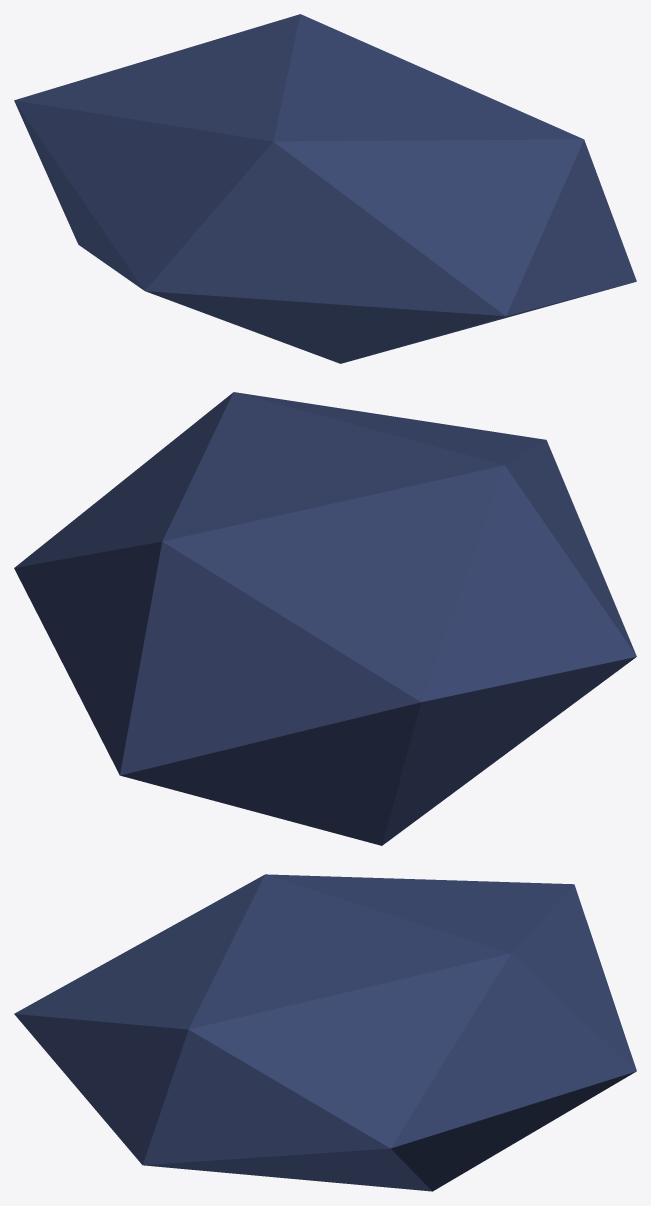
The model's file is rock-small-blue.fbx.
3 renders of one model, top to bottom at view 1: azimuth 30°, elevation 25°; view 2: azimuth 150°, elevation 25°; view 3: azimuth 270°, elevation 25°, orthographic. The views are drawn at different scales.
Parts seen in each view (by area): view 1: rock_small_blue; view 2: rock_small_blue; view 3: rock_small_blue.
Part boxes in pixels (bbox=[...]): rock_small_blue: bbox=[14, 14, 636, 363]; rock_small_blue: bbox=[14, 392, 636, 845]; rock_small_blue: bbox=[14, 874, 636, 1191].
Size of the model in its own units: 0.9929 by 0.4858 by 1.22.
